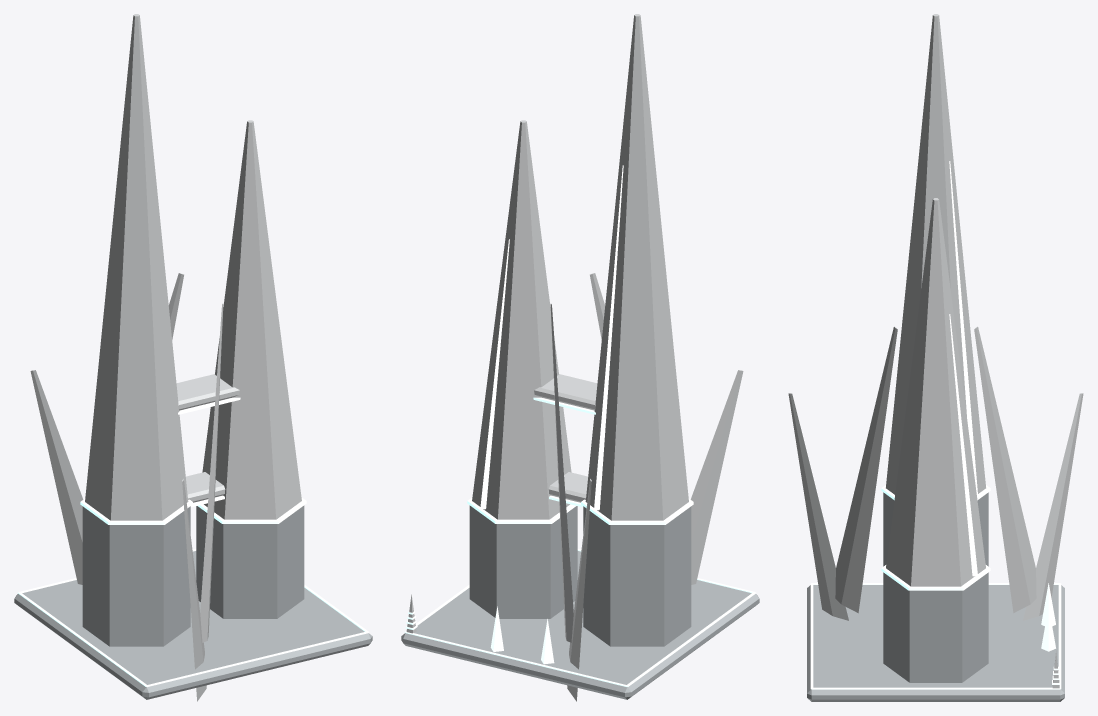
The model's file is zone_high_3_t4.glb.
The picture shows the model from 3 angles, left to right: view 1: azimuth 30°, elevation 25°; view 2: azimuth 150°, elevation 25°; view 3: azimuth 270°, elevation 25°; orthographic projection. The views are drawn at different scales.
Visible parts, largest first — view 1: zone_high_3_t4, detail; view 2: zone_high_3_t4, detail; view 3: zone_high_3_t4, detail.
Boxes of the visible parts, x1,y1,x2,y2 form: zone_high_3_t4: [14, 14, 372, 701]; detail: [18, 549, 369, 686]; zone_high_3_t4: [401, 14, 759, 701]; detail: [404, 549, 755, 686]; zone_high_3_t4: [788, 14, 1083, 701]; detail: [810, 583, 1061, 689].
Size of the model in its own units: 27.5 by 73.94 by 31.43.
